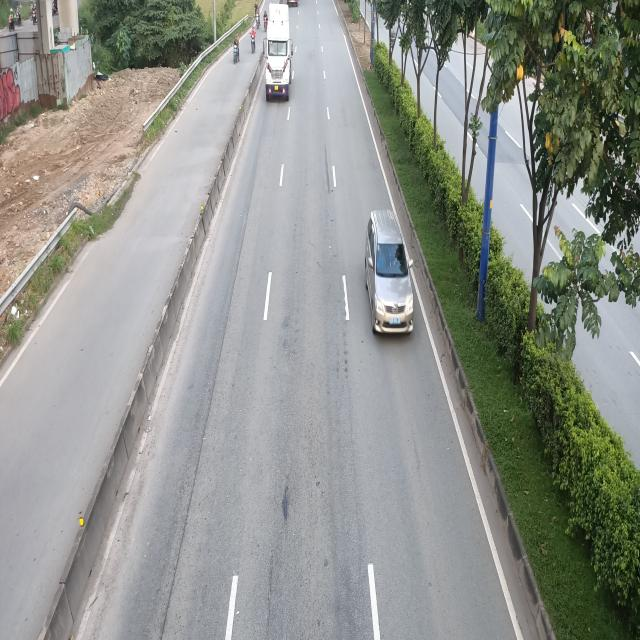car: (364, 210, 414, 338)
container: (263, 0, 293, 100)
